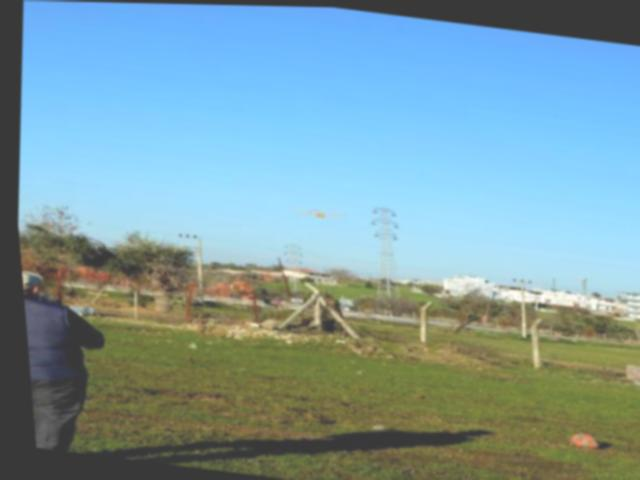iha: (287, 205, 343, 220)
